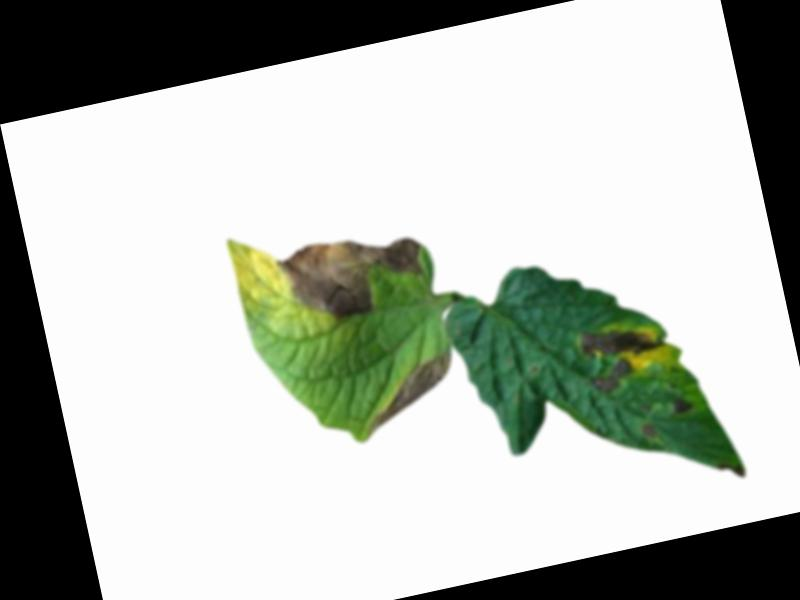Early_blight: (272, 222, 434, 331), (354, 349, 465, 436), (564, 316, 673, 400), (668, 394, 697, 419), (641, 421, 658, 443)
